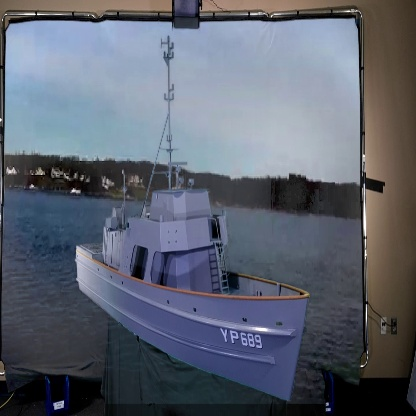YP689: (68, 34, 315, 404)
